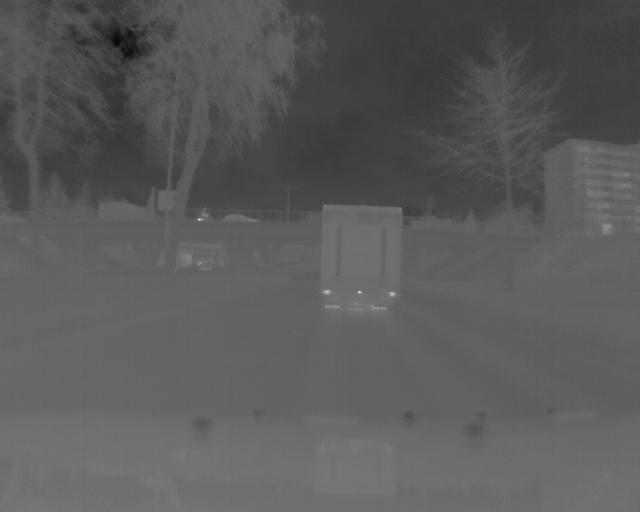car: (315, 199, 407, 316)
